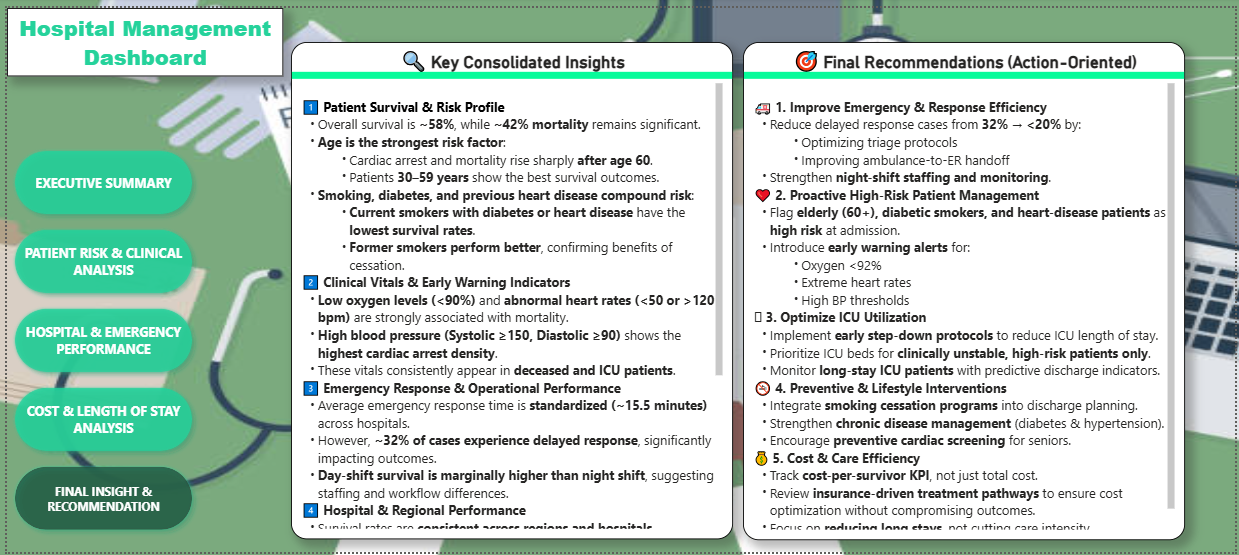

Layout of this report page (visuals, bound fields, positions):
{"tool":"powerbi","page":{"name":"FINAL INSIGHT & RECOMMENDATION ","canvas":[1400,620],"ordinal":5},"visuals":[{"type":"pageNavigator","box":[0,153.9,220,451.5],"z":0},{"type":"textbox","box":[0,0,315,78.4],"z":1000},{"type":"textbox","title":"🔍 Key Consolidated Insights","box":[323.8,38.8,503.9,566.6],"z":2000},{"type":"textbox","title":"🎯 Final Recommendations (Action-Oriented)","box":[839.1,38.8,503.9,567.8],"z":3000}]}

Visuals, with their boxes in screenshot pixels (x1, y1, x2, y2), scaled from the page's 1400x620 canvas onto the 1239x555 screenshot:
pageNavigator: 0/138/195/542
textbox: 0/0/279/70
"🔍 Key Consolidated Insights" textbox: 287/35/733/542
"🎯 Final Recommendations (Action-Oriented)" textbox: 743/35/1189/543
